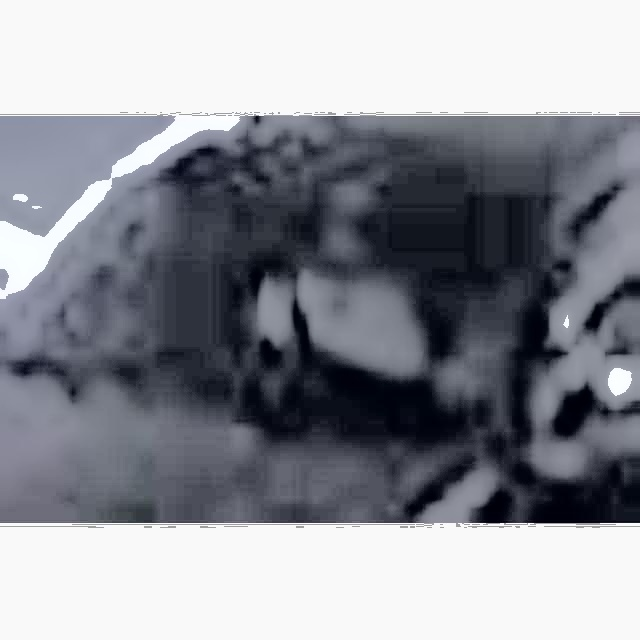pakai: (242, 155, 427, 397)
